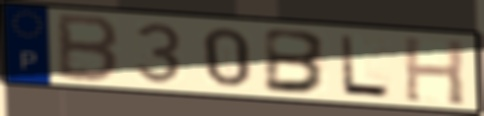0: (198, 26, 255, 89)
3: (129, 21, 186, 86)
B: (55, 11, 122, 85), (262, 26, 331, 96)
H: (401, 33, 467, 108)
L: (337, 32, 394, 100)
